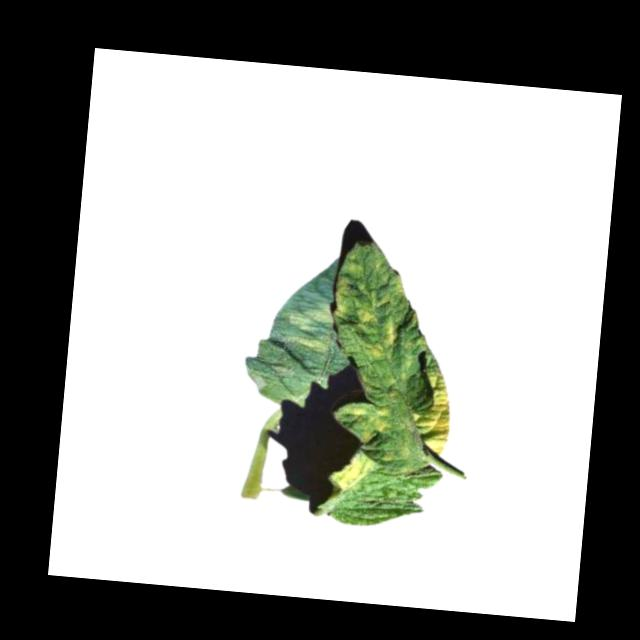Leaf_Mold: (412, 355, 456, 457), (278, 301, 335, 353), (352, 308, 401, 362), (346, 401, 395, 444), (330, 451, 373, 491)
